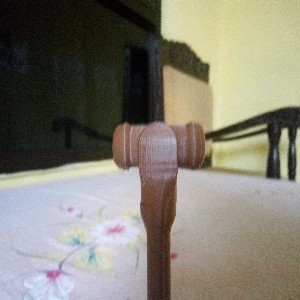palu: (111, 121, 206, 300)
